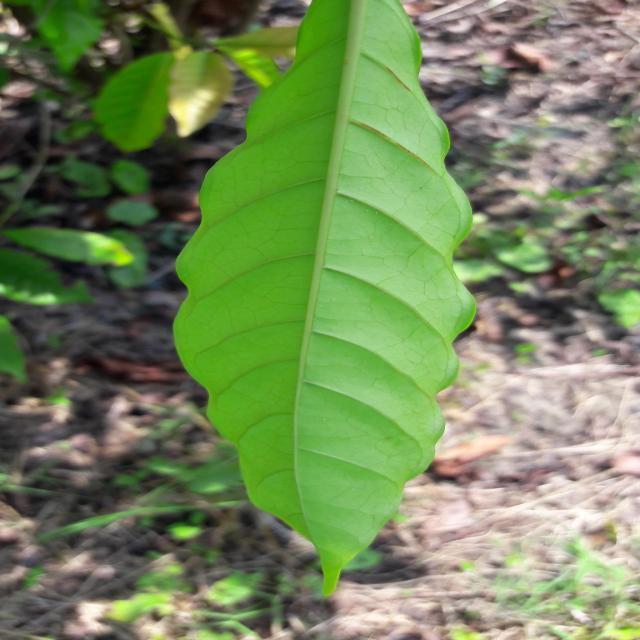Sanas: (173, 0, 478, 598)
